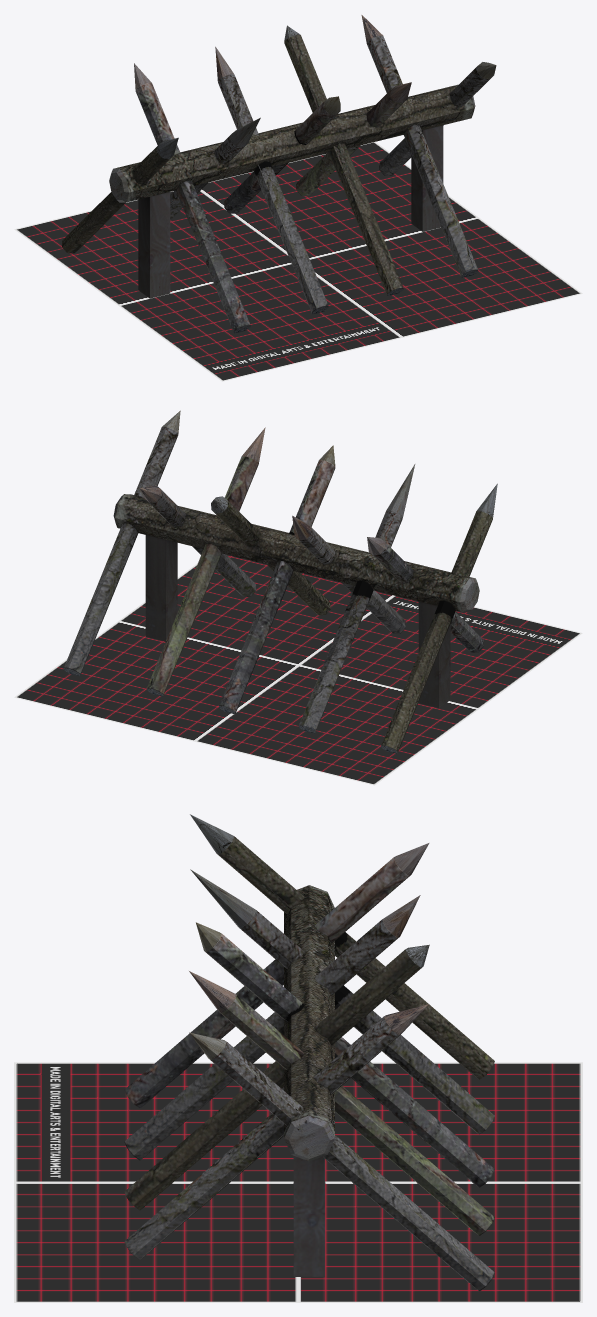
File: Wooden_Barricade.fbx
3 renders of one model, top to bottom at view 1: azimuth 30°, elevation 25°; view 2: azimuth 150°, elevation 25°; view 3: azimuth 270°, elevation 25°, orthographic. The views are drawn at different scales.
Visible parts, largest first — view 1: floor_grid, SM_Barricade; view 2: floor_grid, SM_Barricade; view 3: floor_grid, SM_Barricade.
Part boxes in pixels (x1=…): floor_grid: x1=14, y1=142, x2=582, y2=381; SM_Barricade: x1=62, y1=15, x2=496, y2=333; floor_grid: x1=14, y1=555, x2=582, y2=785; SM_Barricade: x1=63, y1=410, x2=497, y2=753; floor_grid: x1=14, y1=1062, x2=582, y2=1302; SM_Barricade: x1=124, y1=814, x2=494, y2=1290.
Size of the model in its own units: 78.74 by 40.35 by 78.74.
Materials: 2 (2 with a texture image).
